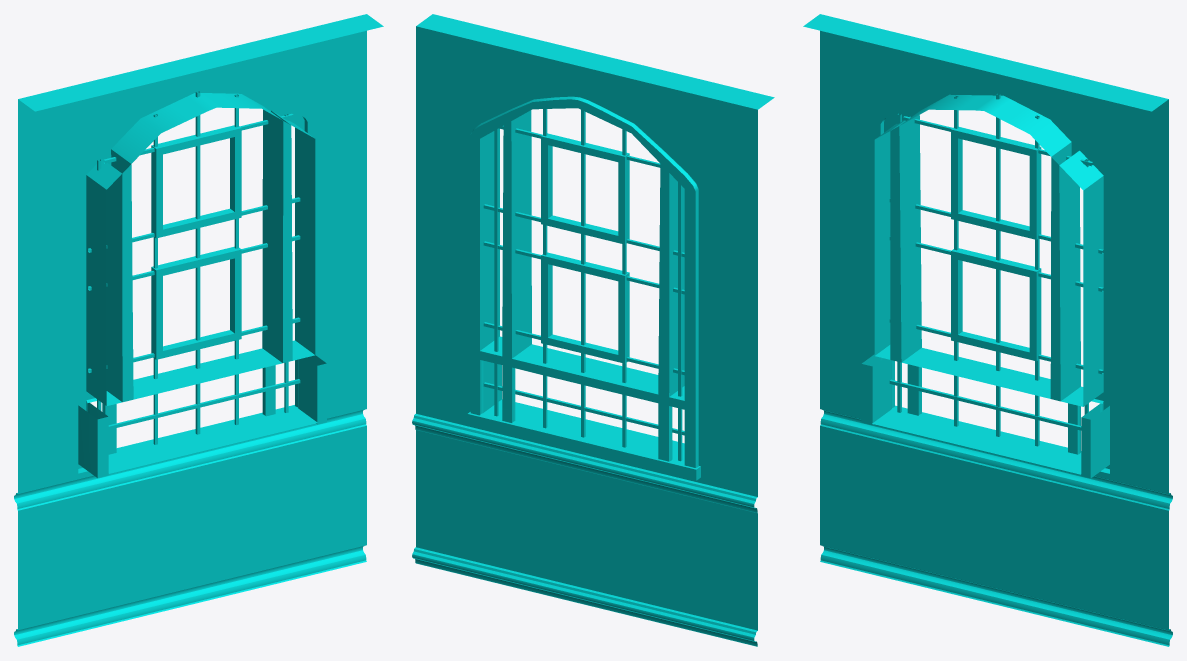
File: ModWindowWallNEW.fbx
3 renders of one model, left to right at view 1: azimuth 30°, elevation 25°; view 2: azimuth 150°, elevation 25°; view 3: azimuth 330°, elevation 25°, orthographic.
Visible parts, largest first — view 1: polySurface129; view 2: polySurface129; view 3: polySurface129.
Boxes of the visible parts, x1,y1,x2,y2 form: polySurface129: (14, 14, 383, 646); polySurface129: (412, 14, 774, 646); polySurface129: (803, 14, 1172, 646).
Size of the model in its own units: 240 by 360 by 29.25.
